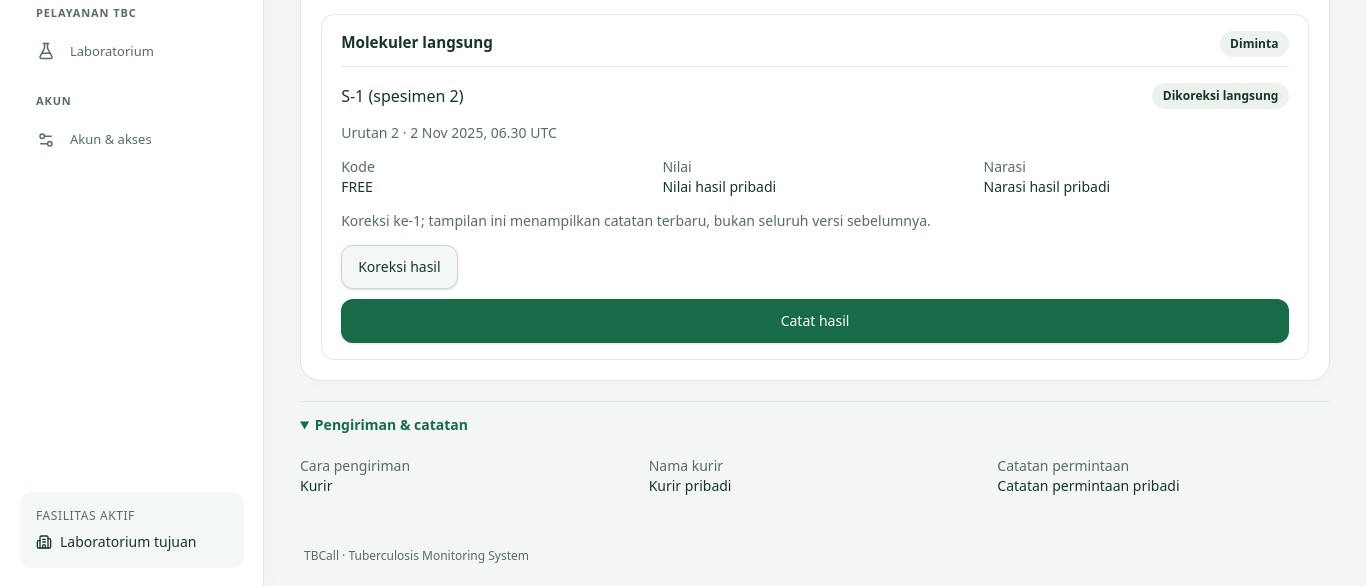
Test: narrative-only correction preserves original timestamp 2025-11-02T06:30:00Z through a repeated DST hour and server precision
(page scrolled)
Step 1. Click the button with aria-label "Koreksi hasil Molekuler langsung S-1 (spesimen 2)" → (399, 267), box [341,245,458,289]
(page scrolled)
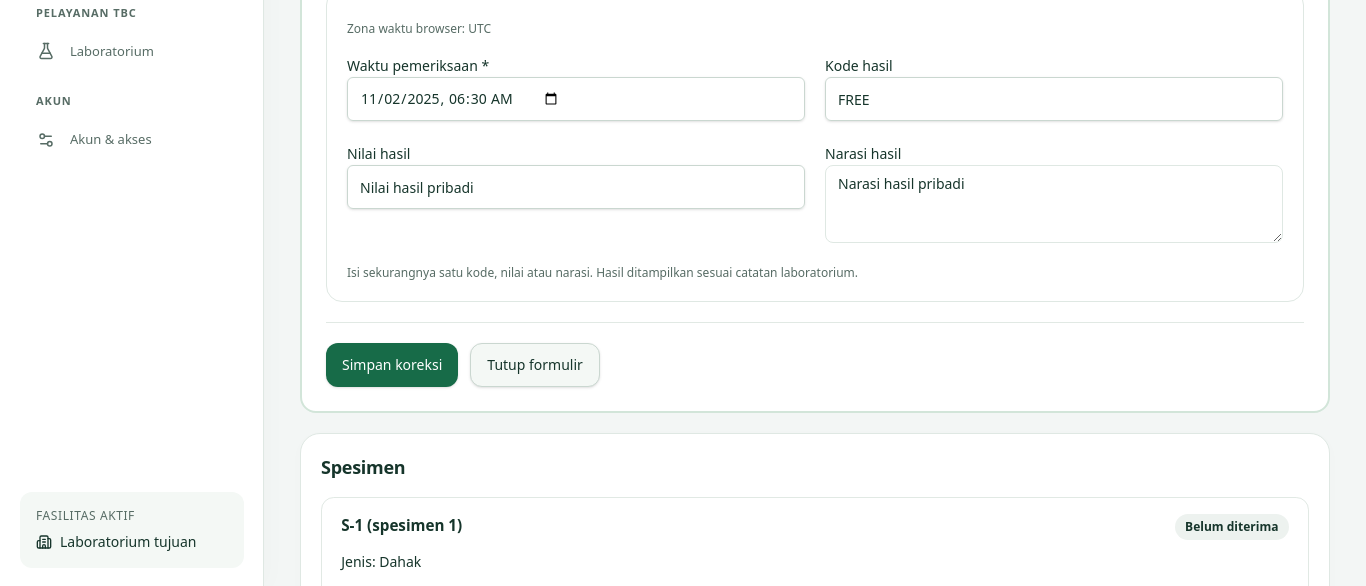
Step 2. Replace the text in the text box labelled "Narasi hasil" with "Only narrative changed" → (1054, 204), box [825,165,1283,243]
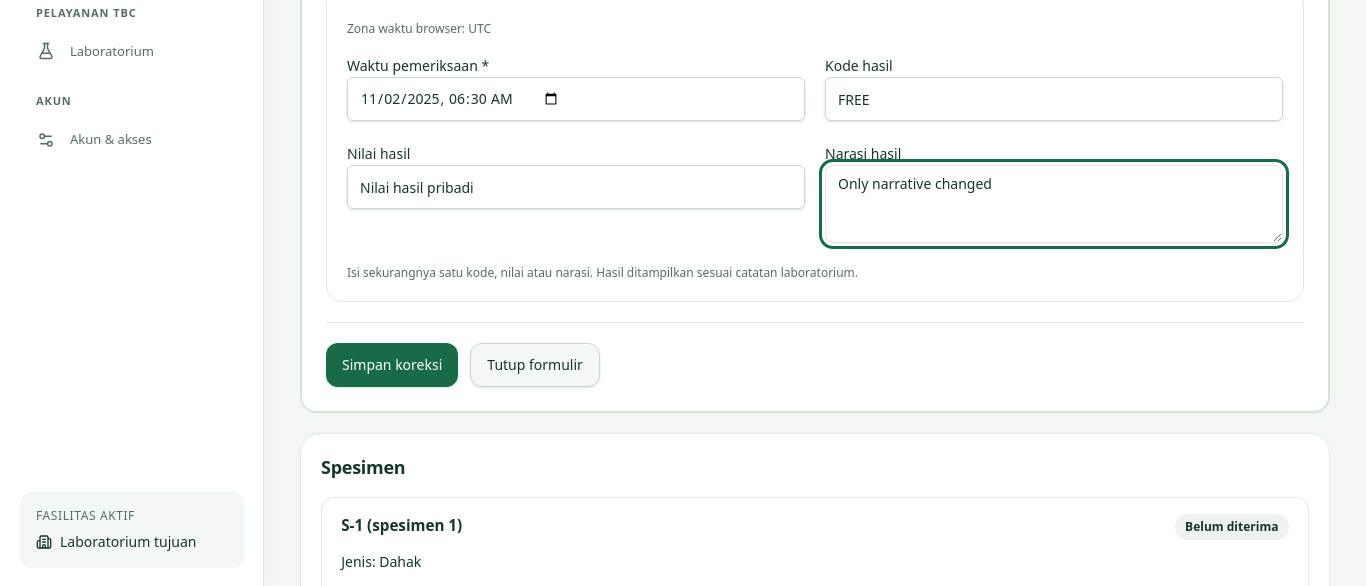
Step 3. Click the button "Simpan koreksi" → (392, 365), box [326,343,458,387]
(page scrolled)
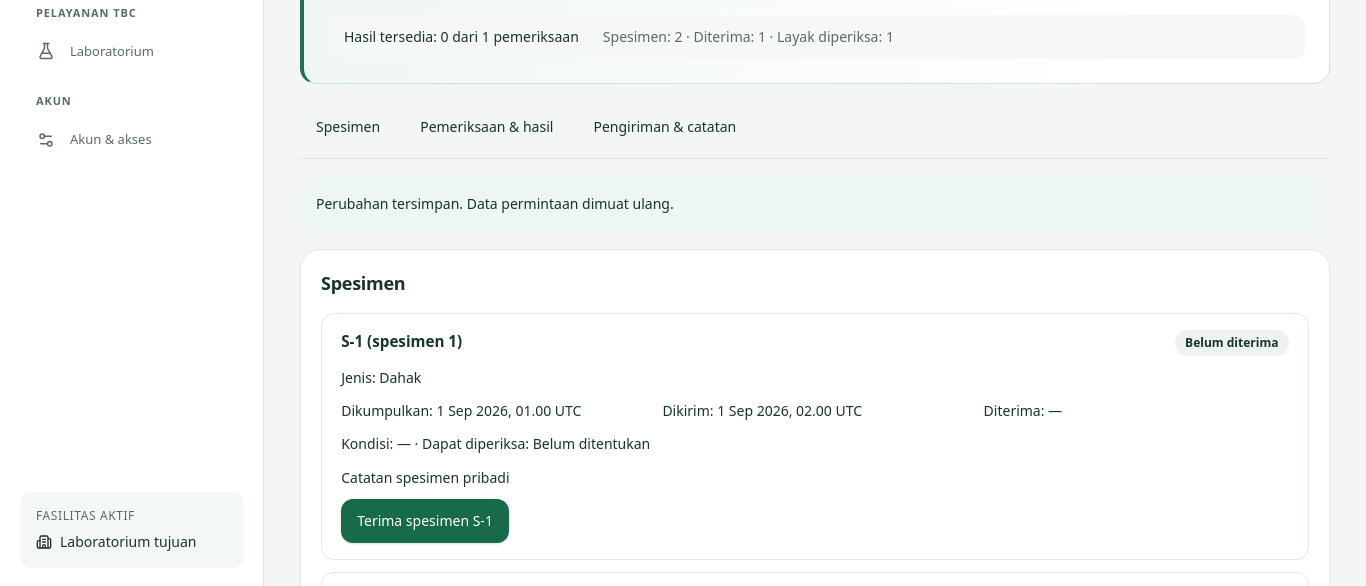
Expected: the text "Perubahan tersimpan. Data permintaan dimuat ulang." is shown, [300,179,1330,229]
